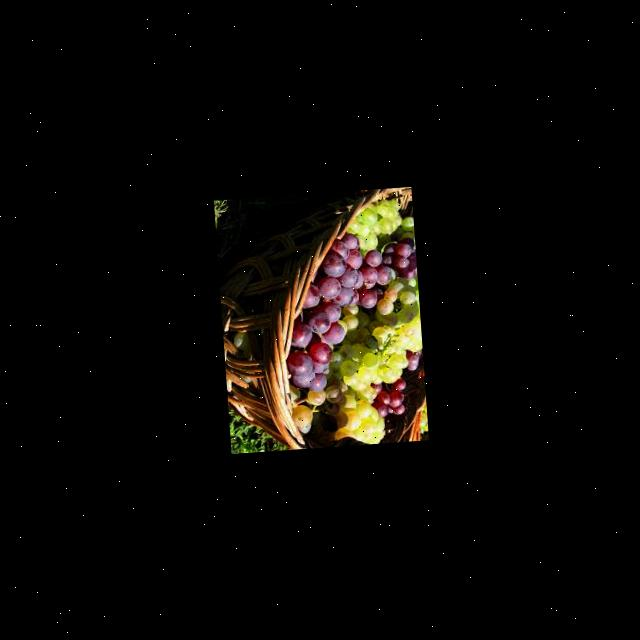grape: (278, 235, 363, 402)
